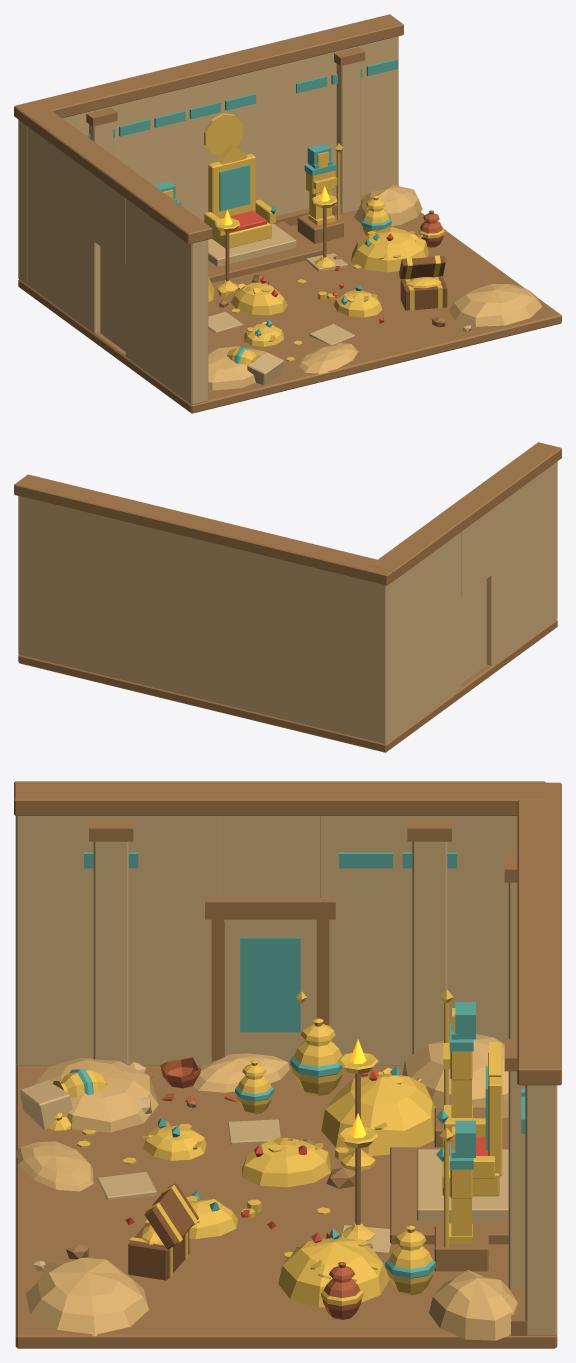
Rendered from desert-treasure-vault.glb.
3 views of the same model, one above another, from view 1: azimuth 30°, elevation 25°; view 2: azimuth 150°, elevation 25°; view 3: azimuth 270°, elevation 25° (orthographic). The views are drawn at different scales.
Visible parts, largest first — view 1: Wall_Back, Floor, Wall_Left_Front, Wall_Left_Back, Cornice_Back, Cornice_Left, Pilaster_14, SandDrift_1, GoldHeap_1, Door, Wall_Left_Lintel, Dais_Step1 (+17 smaller); view 2: Wall_Back, Wall_Left_Front, Wall_Left_Back, Cornice_Back, Cornice_Left, Floor, Door, Wall_Left_Lintel; view 3: Floor, Wall_Left_Front, Wall_Left_Back, Cornice_Left, Cornice_Back, Wall_Left_Lintel, Wall_Back, Pilaster_L-10, Pilaster_L10, SandDrift_1, Door, GoldHeap_0 (+38 smaller).
Part boxes in pixels (<box>): Wall_Back: <box>18,36,398,285</box>; Floor: <box>18,210,561,413</box>; Wall_Left_Front: <box>125,199,208,404</box>; Wall_Left_Back: <box>27,127,100,333</box>; Cornice_Back: <box>14,14,403,118</box>; Cornice_Left: <box>18,103,212,244</box>; Pilaster_14: <box>336,61,360,213</box>; SandDrift_1: <box>448,284,542,326</box>; GoldHeap_1: <box>351,227,428,272</box>; Door: <box>100,246,125,351</box>; Wall_Left_Lintel: <box>93,175,125,264</box>; Dais_Step1: <box>208,221,322,282</box>; Wall_Back: <box>18,496,395,744</box>; Wall_Left_Front: <box>486,461,557,665</box>; Wall_Left_Back: <box>395,532,461,736</box>; Cornice_Back: <box>14,474,392,585</box>; Cornice_Left: <box>370,442,561,581</box>; Floor: <box>18,619,557,752</box>; Door: <box>461,579,486,683</box>; Wall_Left_Lintel: <box>461,509,492,597</box>; Floor: <box>15,1061,557,1348</box>; Wall_Left_Front: <box>15,816,220,1065</box>; Wall_Left_Back: <box>320,816,517,1065</box>; Cornice_Left: <box>14,781,545,815</box>; Cornice_Back: <box>517,782,561,1085</box>; Wall_Left_Lintel: <box>221,816,319,921</box>; Wall_Back: <box>525,1085,557,1335</box>; Pilaster_L-10: <box>93,841,128,1064</box>; Pilaster_L10: <box>412,841,447,1054</box>; SandDrift_1: <box>25,1257,149,1336</box>; Door: <box>224,921,316,1061</box>; GoldHeap_0: <box>321,1073,435,1155</box>.
Bounding box in the file's own units: 43.03 × 19.65 × 34.4.
